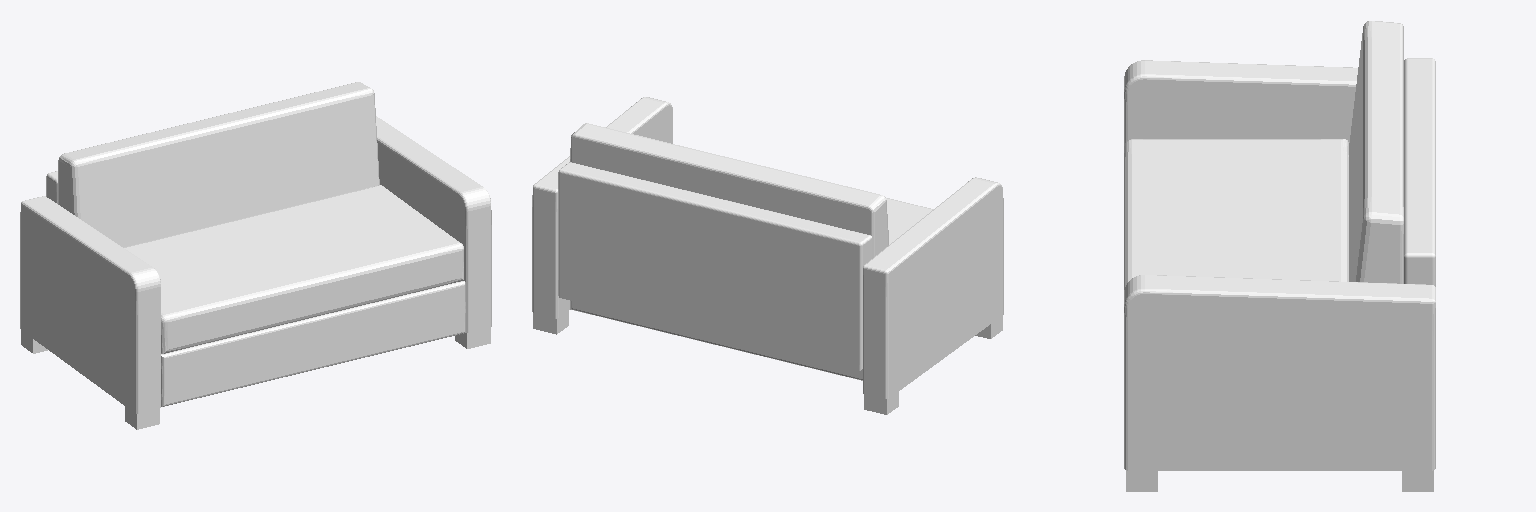
URDF robot description (couch_ikea):
<robot
  name="couch_ikea">
  <link
    name="couch_ikea">
    <inertial>
      <origin
        xyz="1.8771E-07 0.075697 0.32523"
        rpy="0 0 0" />
      <mass
        value="435.29" />
      <inertia
        ixx="32.6884309720656"
        ixy="-1.24384353094031E-05"
        ixz="6.77792219400119E-06"
        iyy="81.5207128346485"
        iyz="-4.87136937361572"
        izz="95.075349947584" />
    </inertial>
    <visual>
      <origin
        xyz="0 0 0"
        rpy="0 0 0" />
      <geometry>
        <mesh
          filename="package://couch_ikea/meshes/couch_ikea.dae" />
      </geometry>
      <material
        name="">
        <color
          rgba="1 1 1 1" />
      </material>
    </visual>
    <collision>
      <origin
        xyz="0 0 0"
        rpy="0 0 0" />
      <geometry>
        <mesh
          filename="package://couch_ikea/meshes/couch_ikea.dae" />
      </geometry>
    </collision>
  </link>
</robot>

--- Facts derived from the render (not from the file) ---
The picture shows the robot from 3 angles, left to right: view 1: azimuth 30°, elevation 25°; view 2: azimuth 150°, elevation 25°; view 3: azimuth 270°, elevation 25°; orthographic projection.
Robot: couch_ikea — 1 links, 0 joints (none); root link couch_ikea; default pose: every joint at zero.
Links seen in each view (by area): view 1: couch_ikea; view 2: couch_ikea; view 3: couch_ikea.
Link boxes in pixels (x1,y1,x2,y2): couch_ikea: (20,82,491,429); couch_ikea: (532,97,1003,414); couch_ikea: (1124,21,1435,491).
Size in the robot's own frame: 1.37 by 0.78 by 0.718 metres.
1 mesh visuals loaded from 1 distinct referenced files (1 Collada DAE).